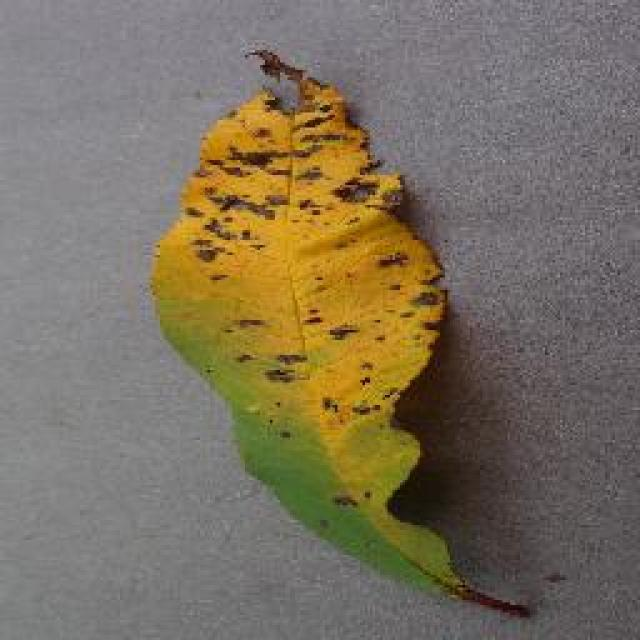Peach_Bacterial_Spot: (224, 74, 458, 444)
